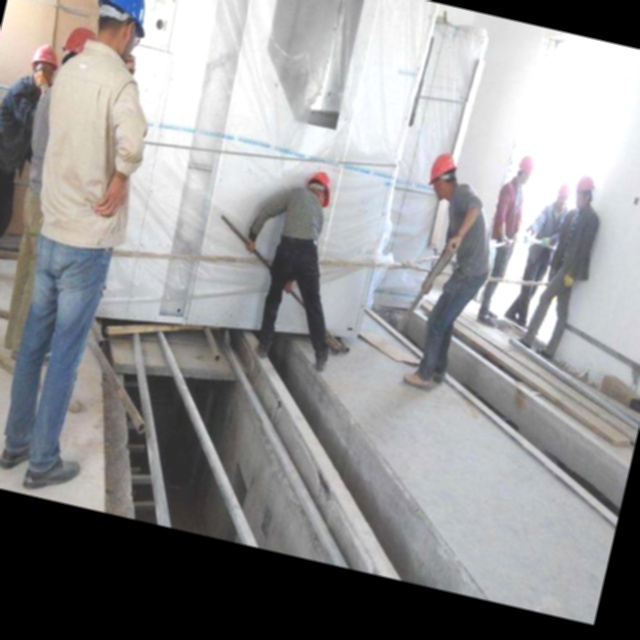Con_Casco: (87, 0, 159, 61)
Sin_Chaleco: (20, 46, 163, 252)
